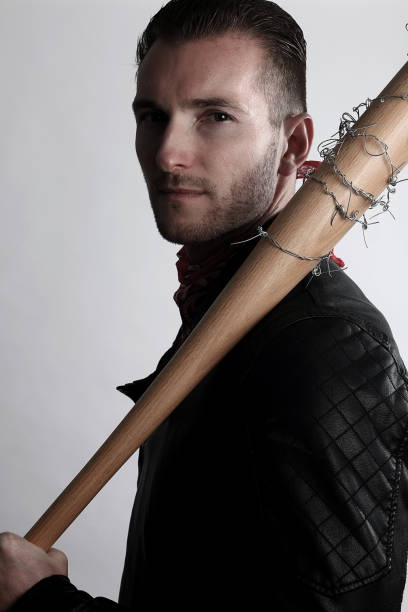bita: (10, 73, 408, 591)
